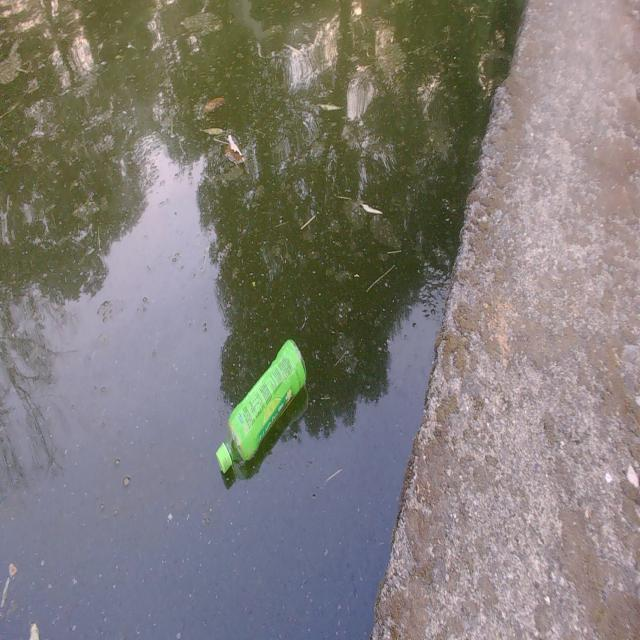bottle: (204, 331, 328, 489)
